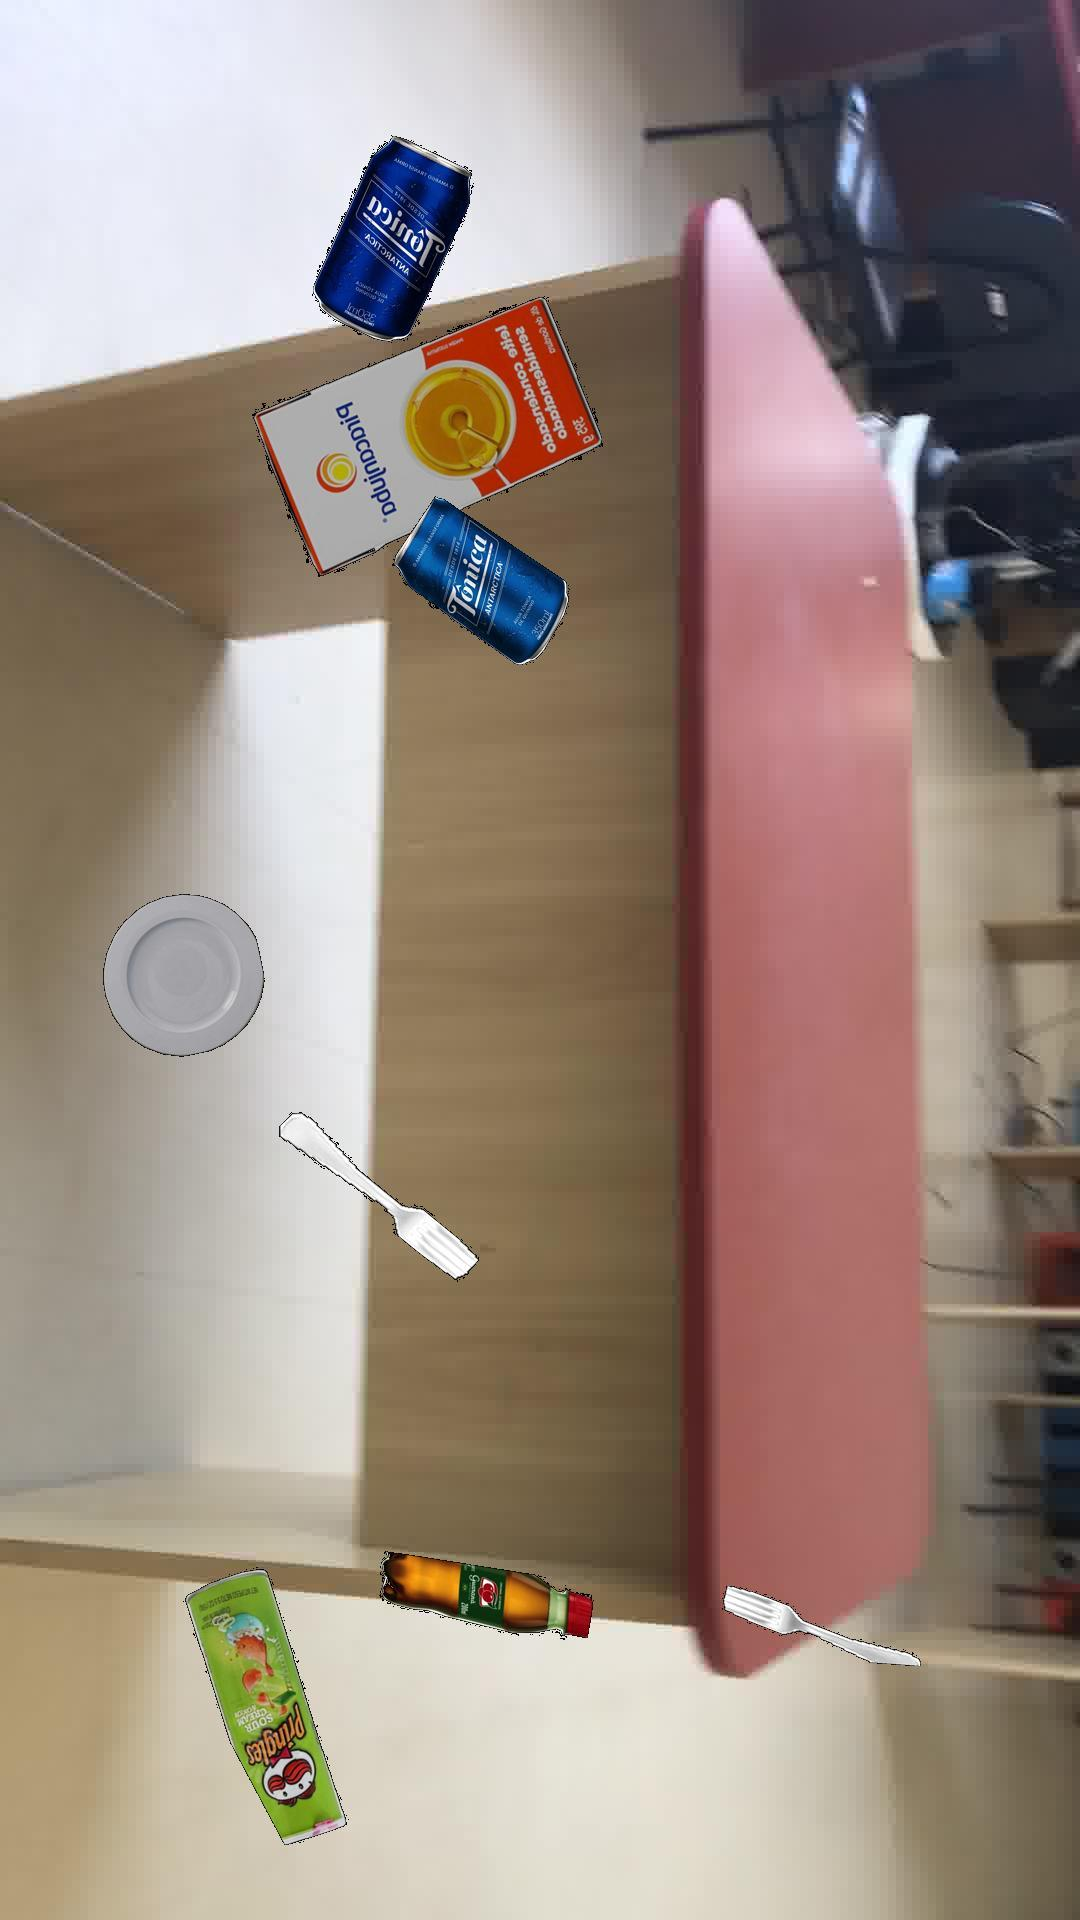fork: (277, 1110, 477, 1279), (720, 1585, 919, 1664)
guarana: (377, 1549, 592, 1636)
plate: (102, 893, 264, 1055)
pringles: (183, 1568, 345, 1844)
tonic: (311, 135, 471, 340), (390, 495, 567, 663)
